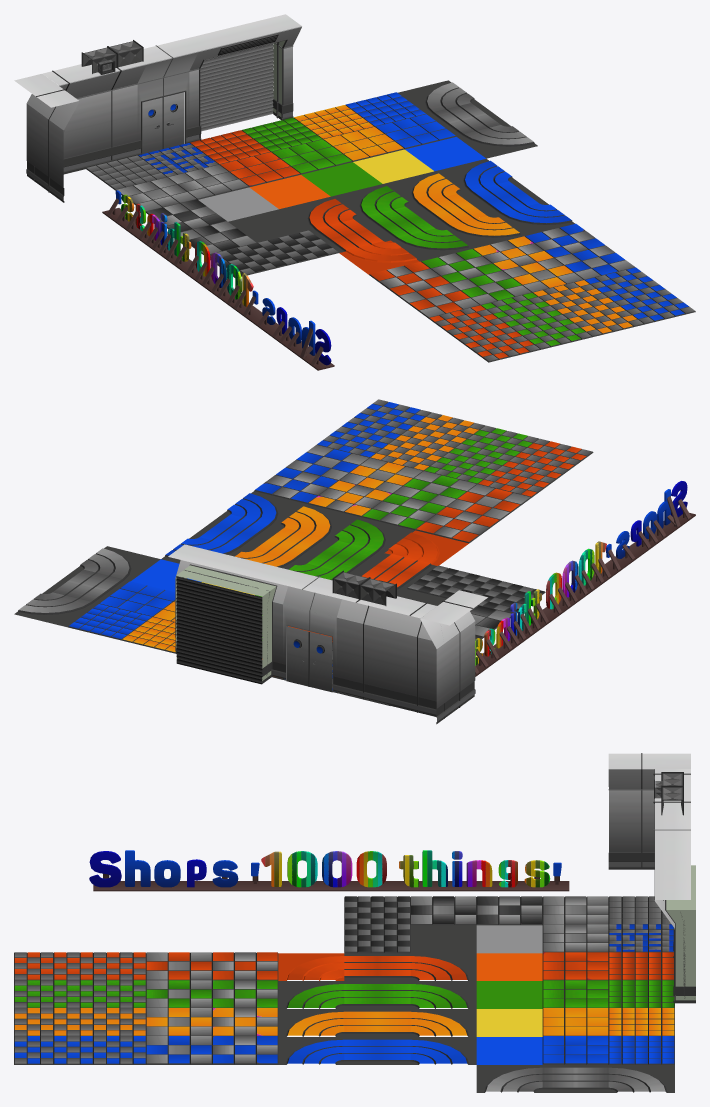
The model's file is Pack_Roman.fbx.
3 renders of one model, top to bottom at view 1: azimuth 30°, elevation 25°; view 2: azimuth 150°, elevation 25°; view 3: azimuth 270°, elevation 25°, orthographic. The views are drawn at different scales.
Parts seen in each view (by area): view 1: Плоскость.011, Text_shop, Плоскость.021, Плоскость.006, Плоскость.022, Floor_line_angle.001, Floor_plitka_5*5.009, Floor_plitka_5*5.007, Floor_plitka_5*5.015, Floor_plitka_3*3.006, Floor_plitka_3*3.004, Floor_plitka_5*5.011 (+49 smaller); view 2: Плоскость.011, Плоскость.021, Text_shop, Плоскость.006, Плоскость.022, Floor_plitka_3*3.009, Floor_line_angle, Floor_plitka_3*3.013, Floor_plitka_3*3.015, Floor_plitka_3*3.011, Floor_plitka_5*5.005, Floor_plitka_5*5.009 (+31 smaller); view 3: Text_shop, Плоскость.021, Плоскость.011, Floor_plitka_5*5.007, Floor_plitka_3*3.007, Floor_plitka_3*3.008, Floor_plitka_3*3.003, Floor_plitka_5*5.014, Floor_grey, Floor_plitka_3*3.001, Floor_white, Floor_plitka_3*3.002 (+46 smaller).
Part boxes in pixels (x1,y1,x2,y2): Плоскость.011: (182, 14, 301, 142); Text_shop: (102, 190, 334, 370); Плоскость.021: (14, 65, 94, 202); Плоскость.006: (137, 39, 198, 155); Плоскость.022: (78, 61, 146, 168); Floor_line_angle.001: (457, 124, 537, 158); Floor_plitka_5*5.009: (459, 327, 540, 362); Floor_plitka_5*5.007: (257, 230, 338, 265); Floor_plitka_5*5.015: (614, 289, 695, 324); Floor_plitka_3*3.006: (375, 114, 456, 149); Floor_plitka_3*3.004: (271, 139, 352, 174); Floor_plitka_5*5.011: (511, 314, 591, 349); Плоскость.011: (168, 544, 291, 684); Плоскость.021: (383, 590, 487, 724); Text_shop: (475, 481, 695, 676); Плоскость.006: (276, 570, 341, 692); Плоскость.022: (329, 593, 399, 705); Floor_plitka_3*3.009: (415, 507, 499, 543); Floor_line_angle: (14, 591, 97, 627); Floor_plitka_3*3.013: (308, 480, 391, 517); Floor_plitka_3*3.015: (254, 467, 338, 503); Floor_plitka_3*3.011: (362, 494, 445, 530); Floor_plitka_5*5.005: (68, 604, 151, 640); Floor_plitka_5*5.009: (509, 438, 593, 474); Text_shop: (89, 850, 569, 891); Плоскость.021: (608, 753, 690, 869); Плоскость.011: (654, 844, 695, 1006); Floor_plitka_5*5.007: (344, 924, 410, 953); Floor_plitka_3*3.007: (476, 896, 542, 925); Floor_plitka_3*3.008: (410, 896, 476, 925); Floor_plitka_3*3.003: (542, 952, 608, 980); Floor_plitka_5*5.014: (80, 1036, 146, 1064); Floor_grey: (410, 925, 476, 953); Floor_plitka_3*3.001: (542, 896, 608, 924); Floor_white: (476, 925, 542, 953); Floor_plitka_3*3.002: (542, 924, 608, 952).
Size of the model in its own units: 1649 by 425 by 2064.
